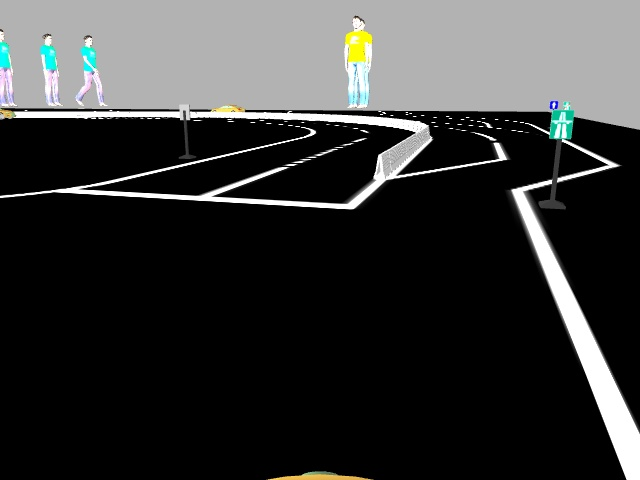HighwayEntrance: (550, 108, 573, 140)
